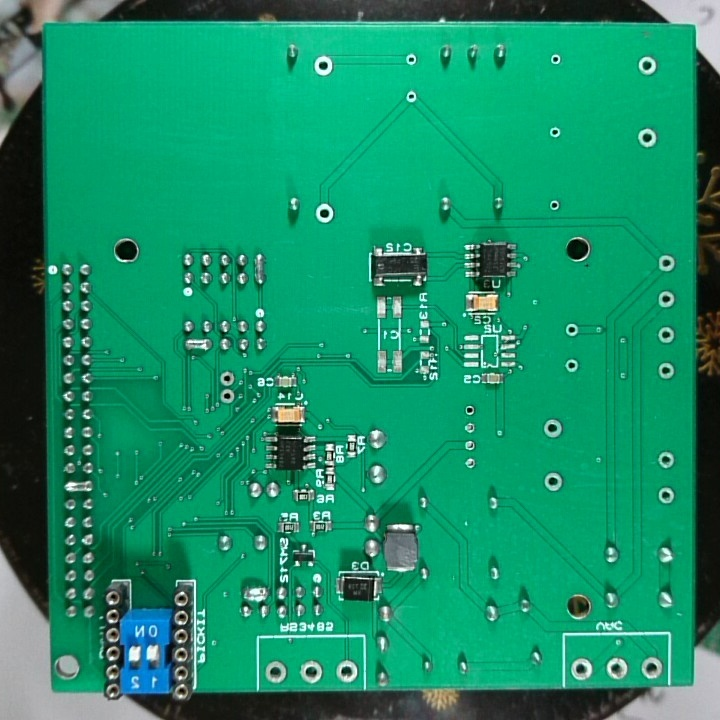F: (263, 658, 291, 686), (639, 652, 663, 683), (298, 658, 325, 685), (569, 655, 594, 683), (542, 415, 566, 444), (605, 654, 629, 683), (542, 470, 568, 496), (334, 658, 359, 685), (635, 53, 659, 79), (636, 126, 660, 151), (311, 54, 335, 78), (654, 324, 677, 348), (655, 252, 678, 275), (314, 202, 336, 226), (655, 448, 677, 472), (562, 355, 583, 378), (657, 289, 678, 311), (655, 486, 677, 506), (657, 361, 677, 381), (217, 386, 237, 406), (217, 369, 238, 388), (562, 320, 581, 340), (547, 197, 564, 216), (462, 455, 479, 474), (548, 51, 565, 69), (461, 419, 479, 436), (460, 438, 479, 454), (403, 51, 419, 69), (547, 124, 562, 141), (462, 402, 477, 418), (404, 89, 417, 106)
P: (182, 336, 214, 354), (252, 250, 267, 288), (239, 585, 269, 604), (61, 480, 95, 494)
